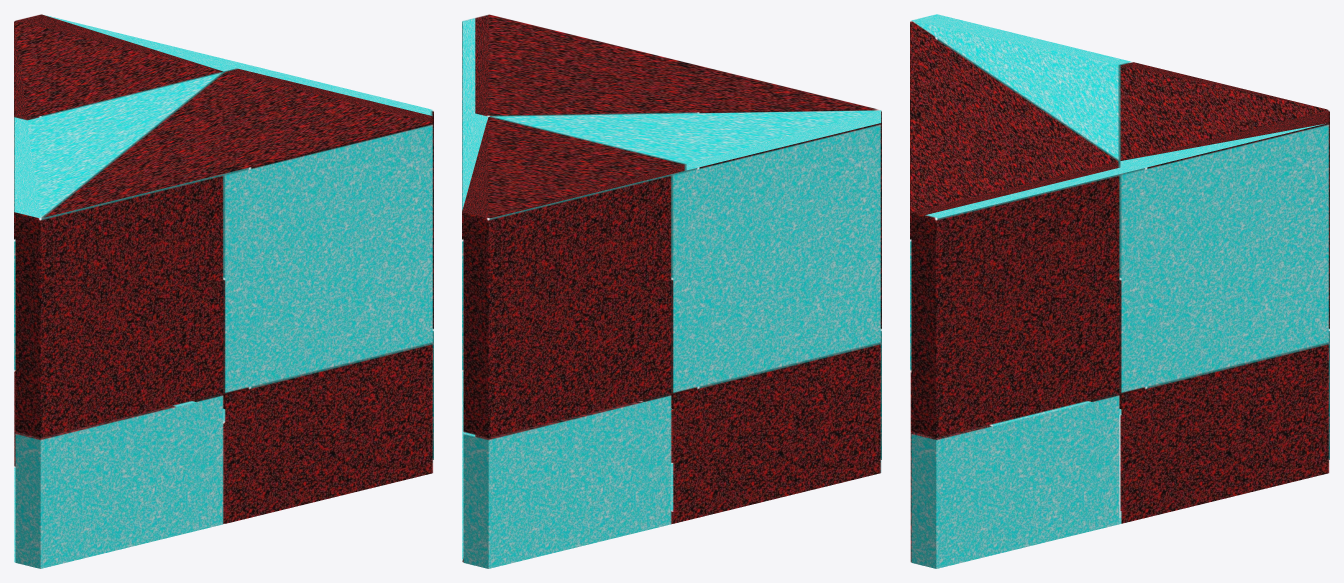
3 renders of one model, left to right at view 1: azimuth 30°, elevation 25°; view 2: azimuth 150°, elevation 25°; view 3: azimuth 270°, elevation 25°, orthographic.
Visible parts, largest first — view 1: SM_Fuzan_Firetrap_Collision_LOD0; view 2: SM_Fuzan_Firetrap_Collision_LOD0; view 3: SM_Fuzan_Firetrap_Collision_LOD0.
Part boxes in pixels (bbox=[...]): SM_Fuzan_Firetrap_Collision_LOD0: bbox=[14, 14, 433, 568]; SM_Fuzan_Firetrap_Collision_LOD0: bbox=[462, 14, 881, 568]; SM_Fuzan_Firetrap_Collision_LOD0: bbox=[910, 14, 1329, 568].
Bounding box in the file's own units: 1.14 × 0.9118 × 0.9911.
1 material, 1 textured.
